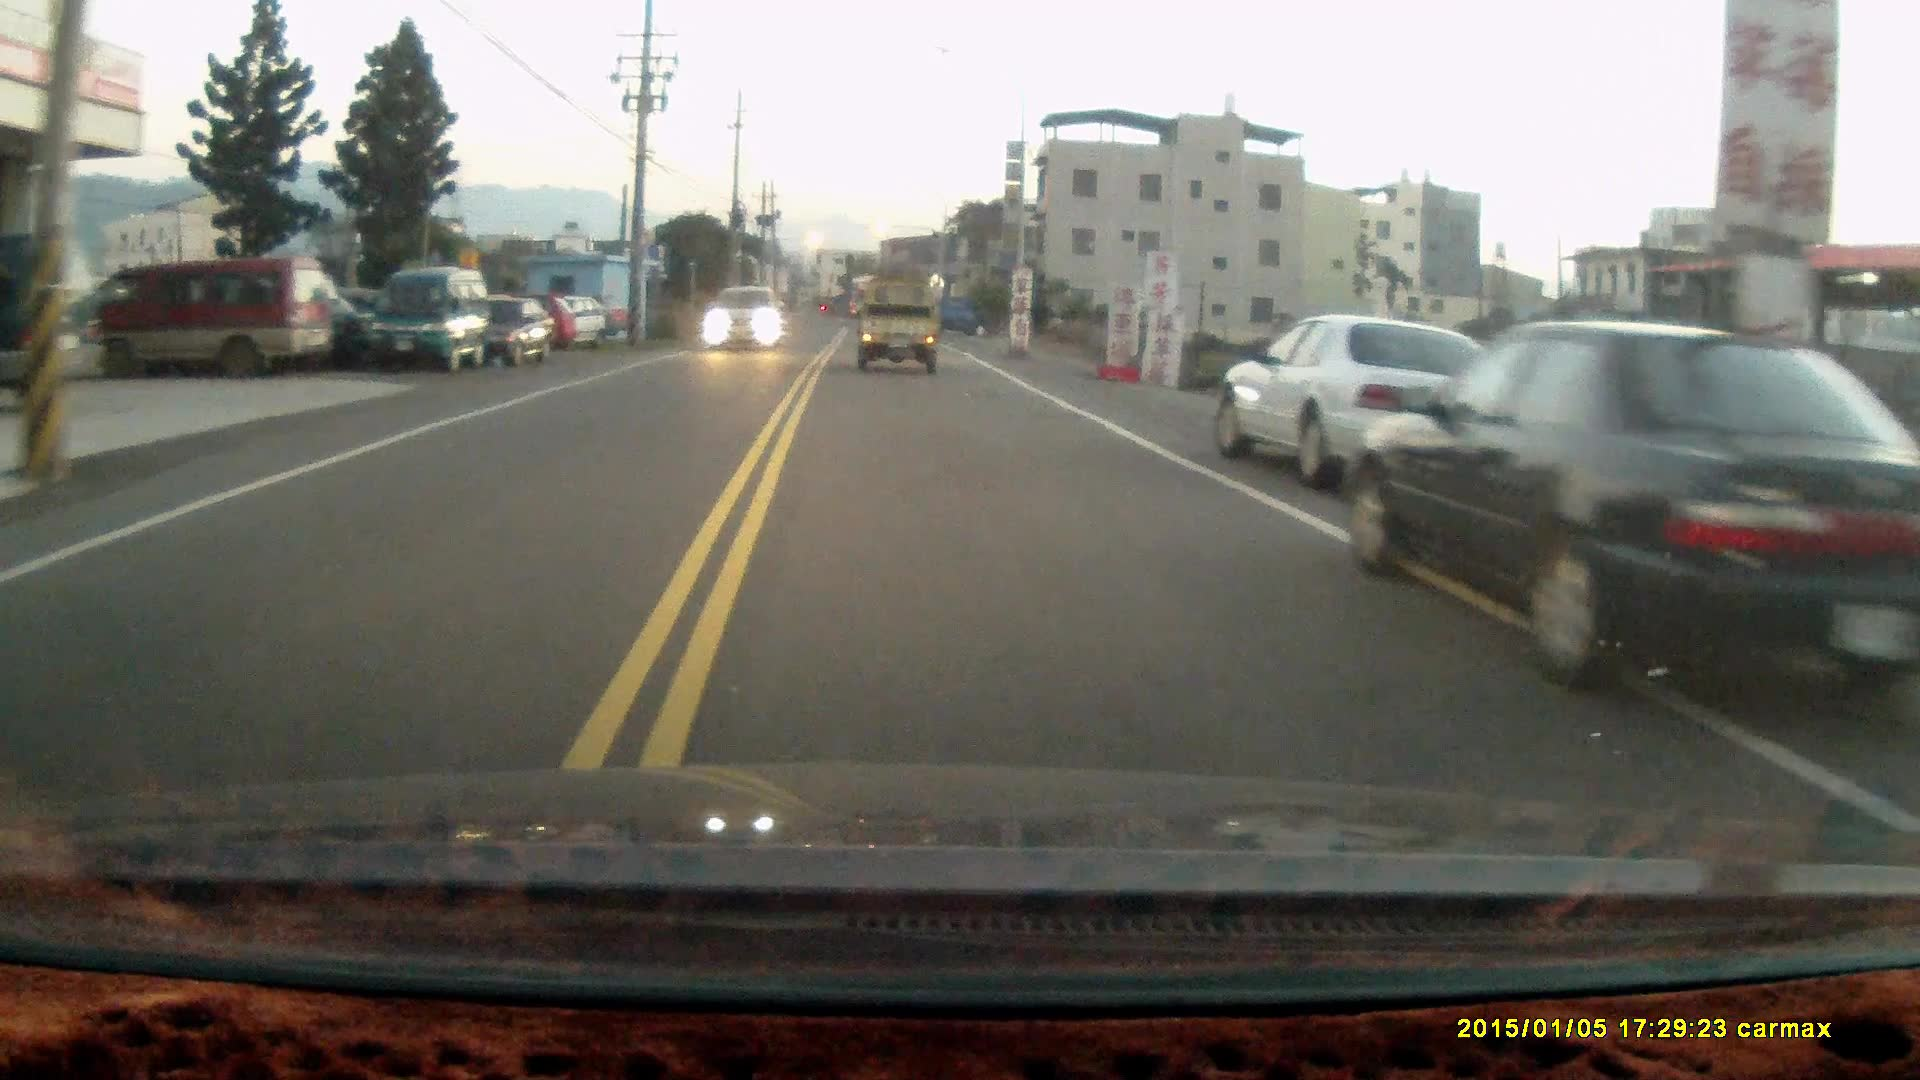vehicle: (1354, 322, 1873, 758), (1213, 316, 1499, 483), (65, 255, 331, 378), (0, 243, 109, 400), (367, 268, 495, 376), (858, 281, 940, 372), (477, 297, 555, 375), (702, 286, 783, 353)
